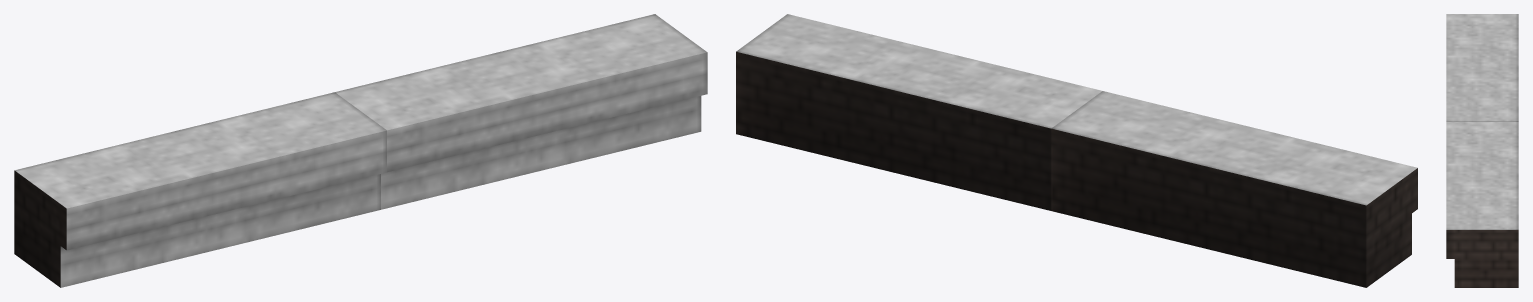
File: B4_TopStand.FBX
The picture shows the model from 3 angles, left to right: view 1: azimuth 30°, elevation 25°; view 2: azimuth 150°, elevation 25°; view 3: azimuth 270°, elevation 25°; orthographic projection. The views are drawn at different scales.
Visible parts, largest first — view 1: B4_TopStand; view 2: B4_TopStand; view 3: B4_TopStand.
Part boxes in pixels (bbox=[...]): B4_TopStand: bbox=[14, 14, 707, 287]; B4_TopStand: bbox=[736, 14, 1417, 287]; B4_TopStand: bbox=[1446, 14, 1518, 287].
Bounding box in the file's own units: 8 × 1 × 1.13.
